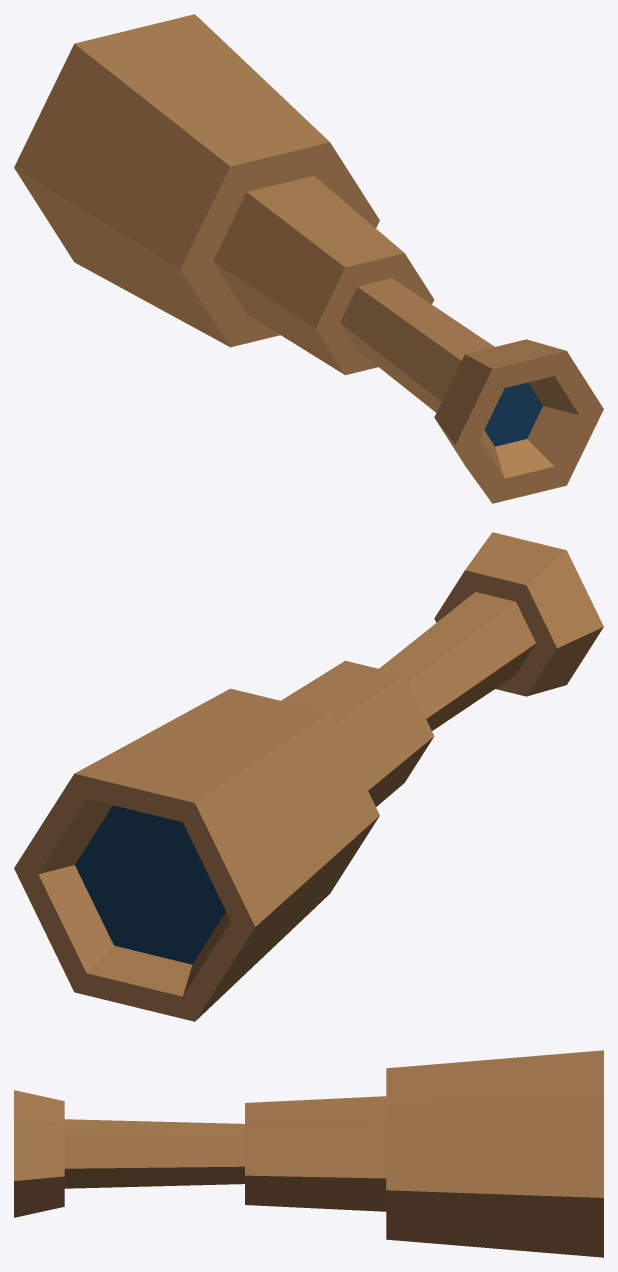
File: Telescope.fbx
3 views of the same model, one above another, from view 1: azimuth 30°, elevation 25°; view 2: azimuth 150°, elevation 25°; view 3: azimuth 270°, elevation 25° (orthographic). The views are drawn at different scales.
Parts seen in each view (by area): view 1: Telescope; view 2: Telescope; view 3: Telescope.
Boxes of the visible parts, x1,y1,x2,y2 form: Telescope: (14,14,603,503); Telescope: (14,532,603,1021); Telescope: (14,1050,603,1257).
Bounding box in the file's own units: 0.1562 × 0.4427 × 0.1353.
